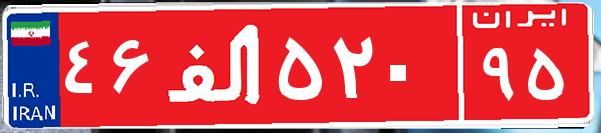0: (385, 28, 445, 110)
2: (330, 28, 385, 110)
4: (57, 26, 110, 107)
5: (273, 28, 330, 110), (525, 38, 570, 115)
6: (110, 28, 158, 105)
9: (475, 38, 525, 113)
الف: (158, 15, 273, 115)
